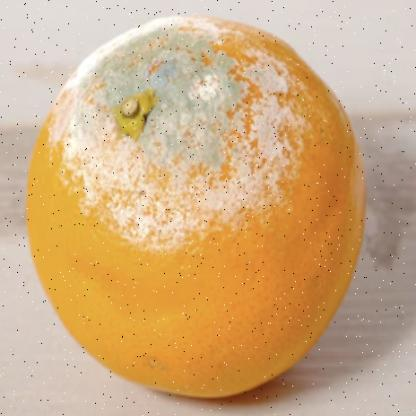rotten: (29, 18, 365, 404)
